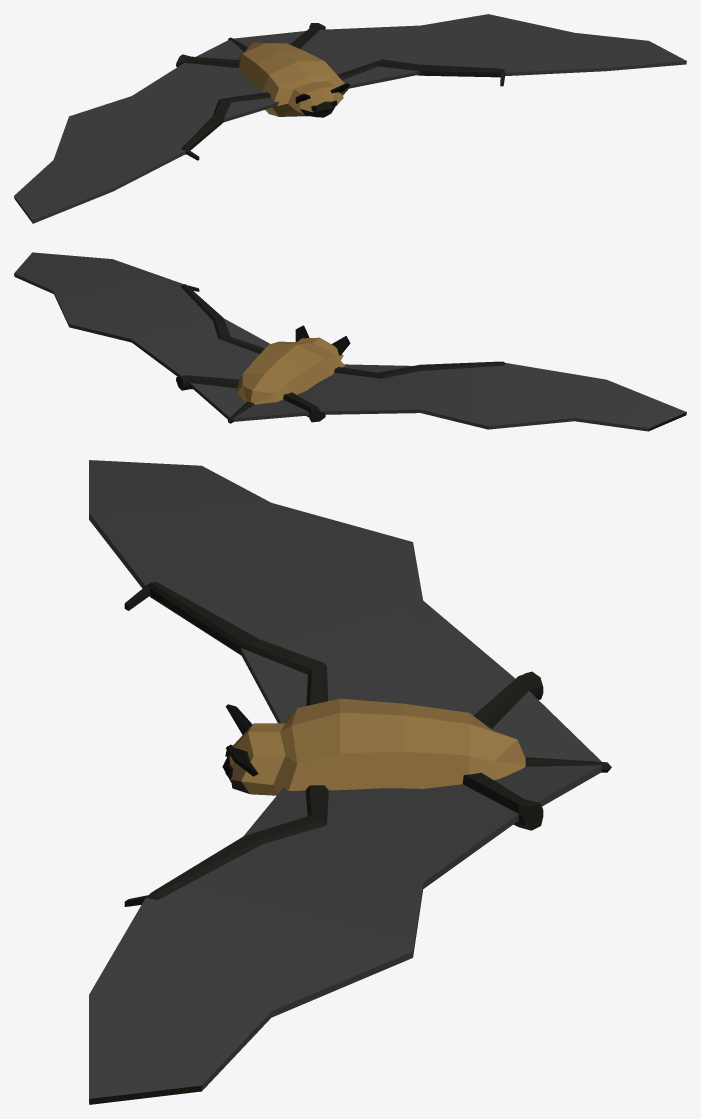
File: bat.glb
3 renders of one model, top to bottom at view 1: azimuth 30°, elevation 25°; view 2: azimuth 150°, elevation 25°; view 3: azimuth 270°, elevation 25°, orthographic. The views are drawn at different scales.
Visible parts, largest first — view 1: Geo_Bat; view 2: Geo_Bat; view 3: Geo_Bat.
Boxes of the visible parts, box(x1,y1,x2,y2) form: Geo_Bat: box(14, 14, 686, 223); Geo_Bat: box(14, 252, 686, 431); Geo_Bat: box(89, 460, 611, 1104).
Bounding box in the file's own units: 162 × 12.35 × 56.06.
Materials: 1 (1 with a texture image).
